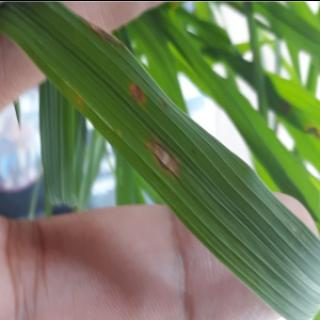Blast: (142, 131, 187, 177)
